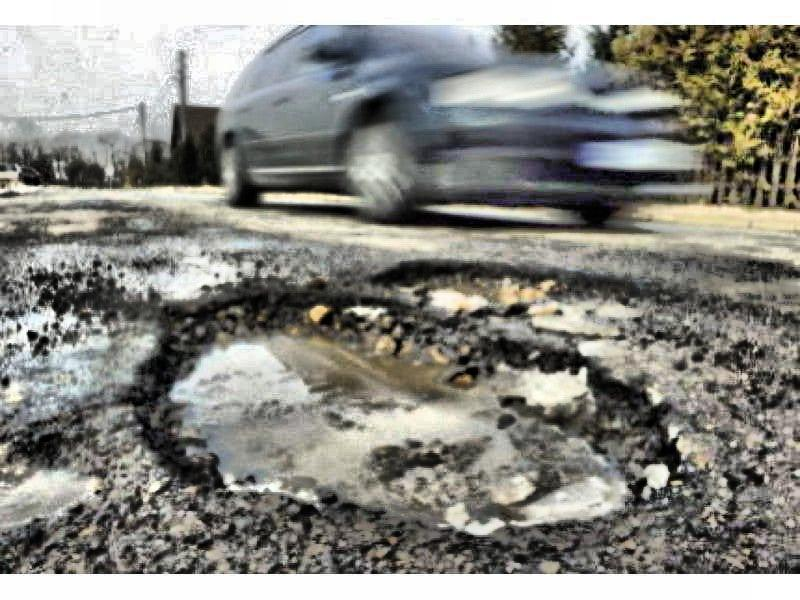pothole: (122, 260, 672, 526)
